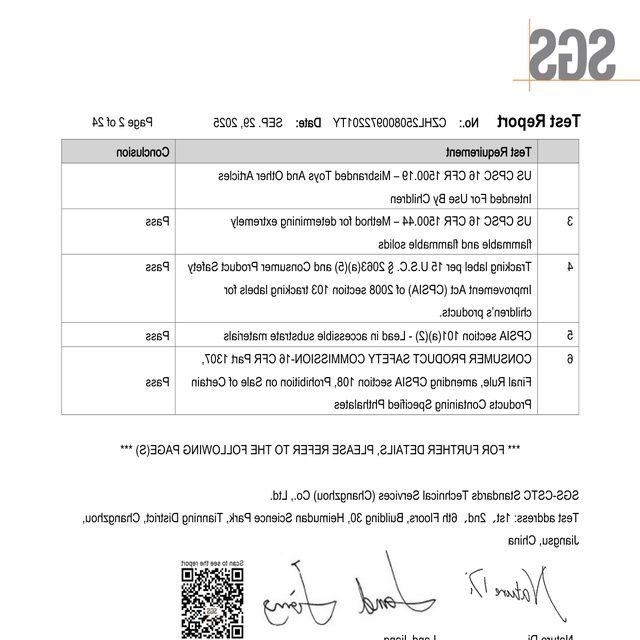sgs: (529, 28, 616, 79)
